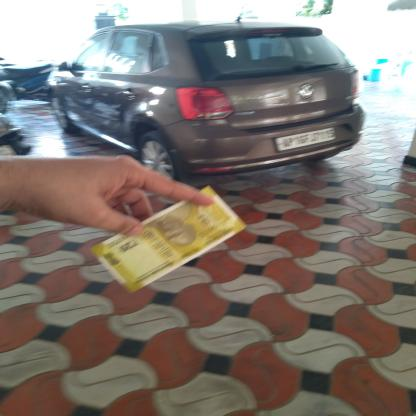New20Front: (106, 190, 226, 276)
